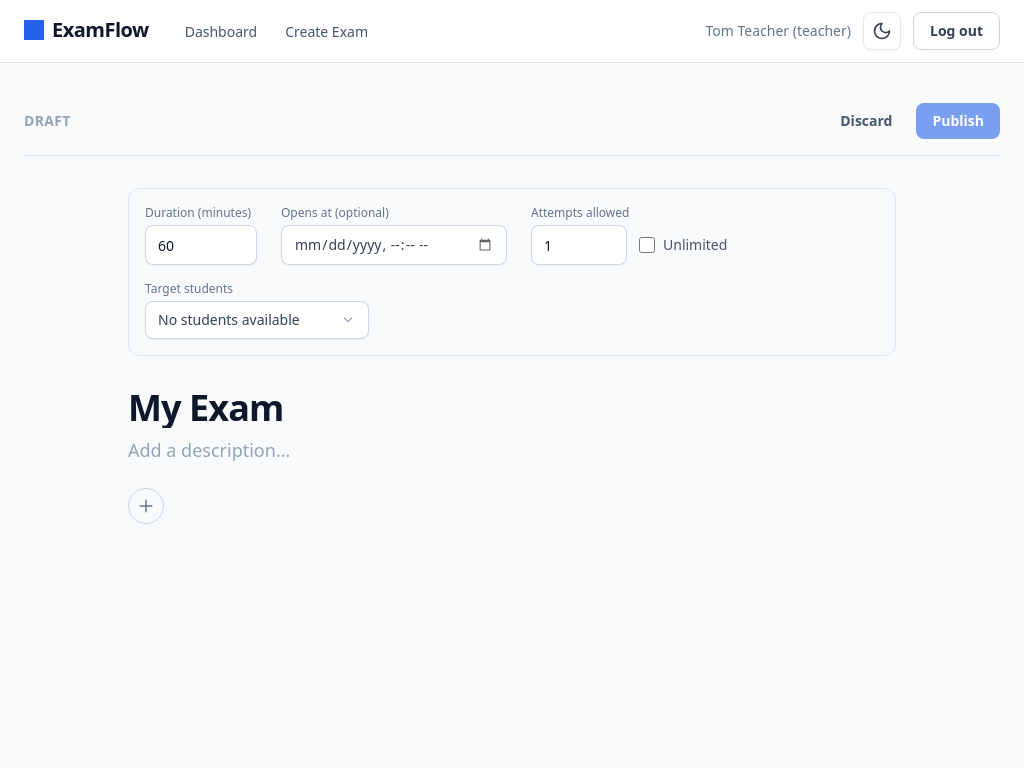
it: exam editor — validation, options, and payload › shows a validation error and blocks submit when an option is blank
This screenshot has width=1024, height=768.
Expected: the field showing "My Exam" is shown, 128,388 -> 896,428
Click the button named "add a question" at point(146, 506), box 128,488 -> 164,524
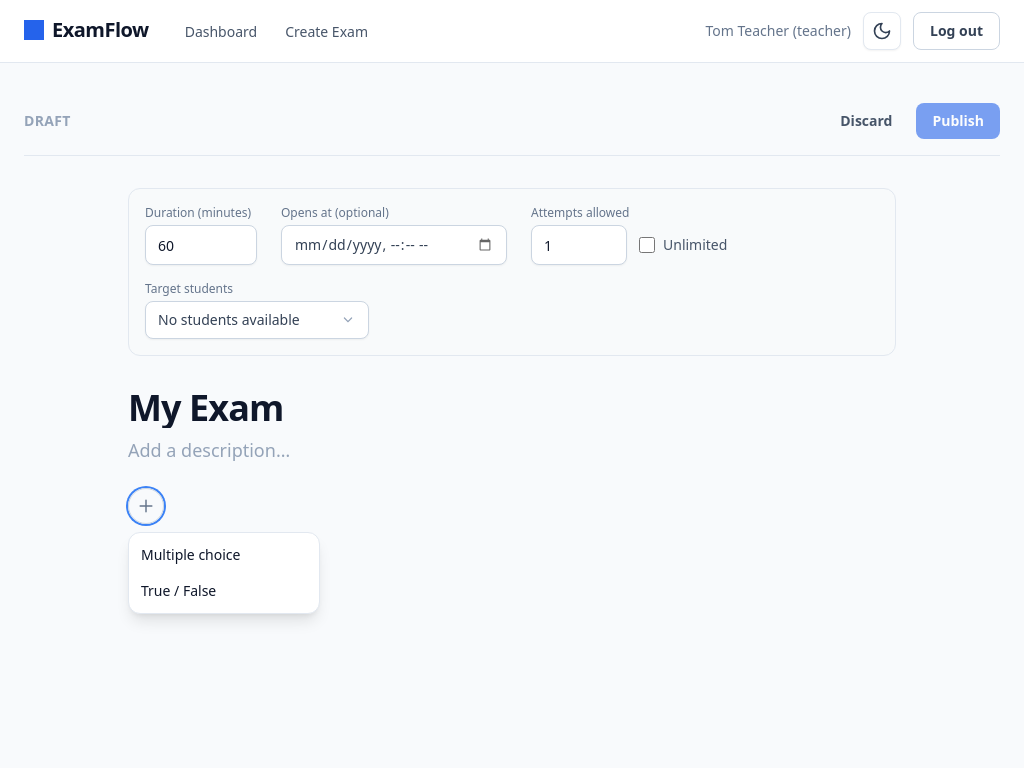
Click the menu item "Multiple choice" at point(224, 555), box 129,537 -> 319,573
(page scrolled)
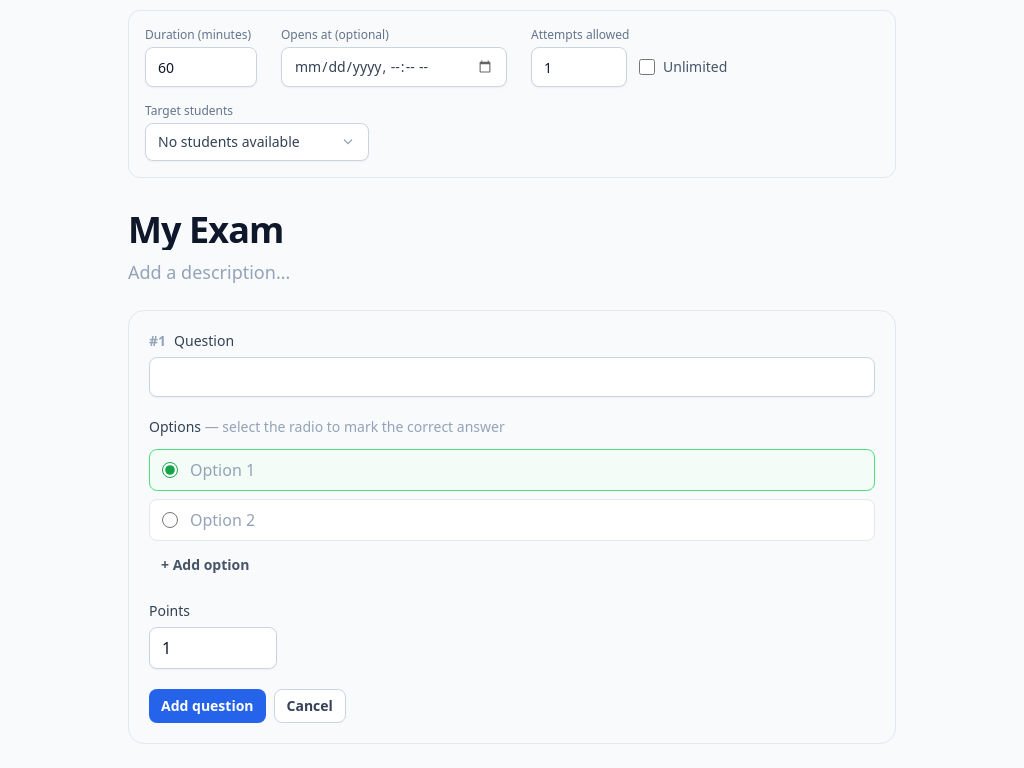
Result: the text box labelled "Question" is shown
Type "Capital of France?" into the text box labelled "Question" at point(512, 377), box 149,357 -> 875,397
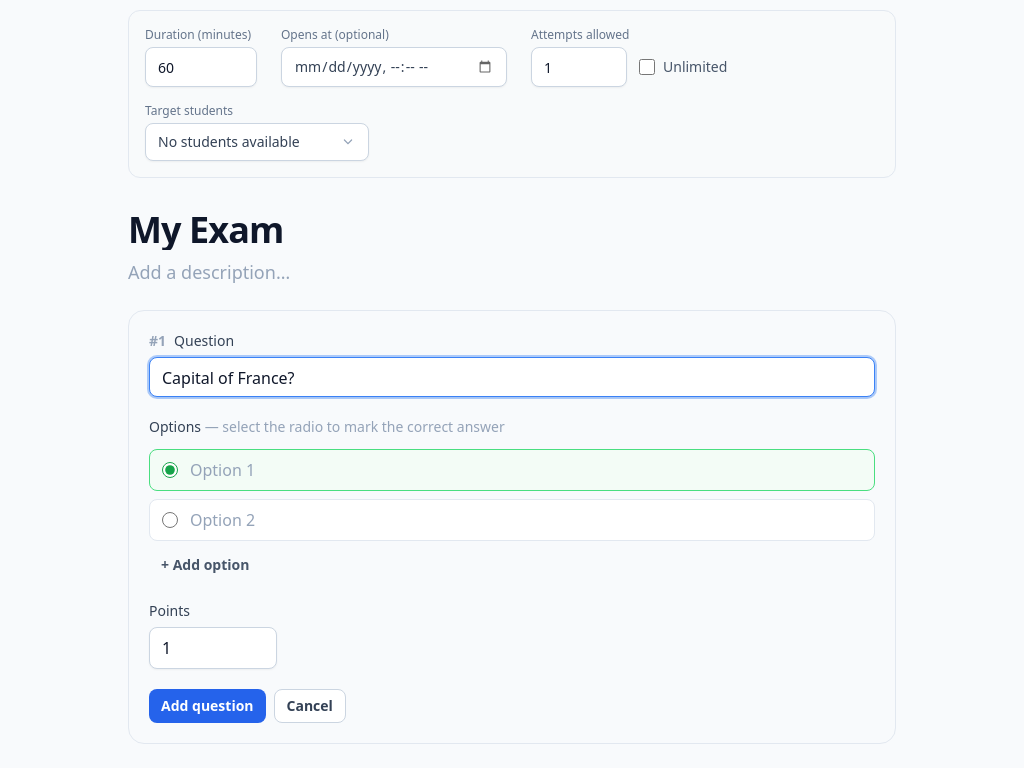
Type "Paris" into the field labelled "Option 1" at point(526, 470), box 190,458 -> 862,482
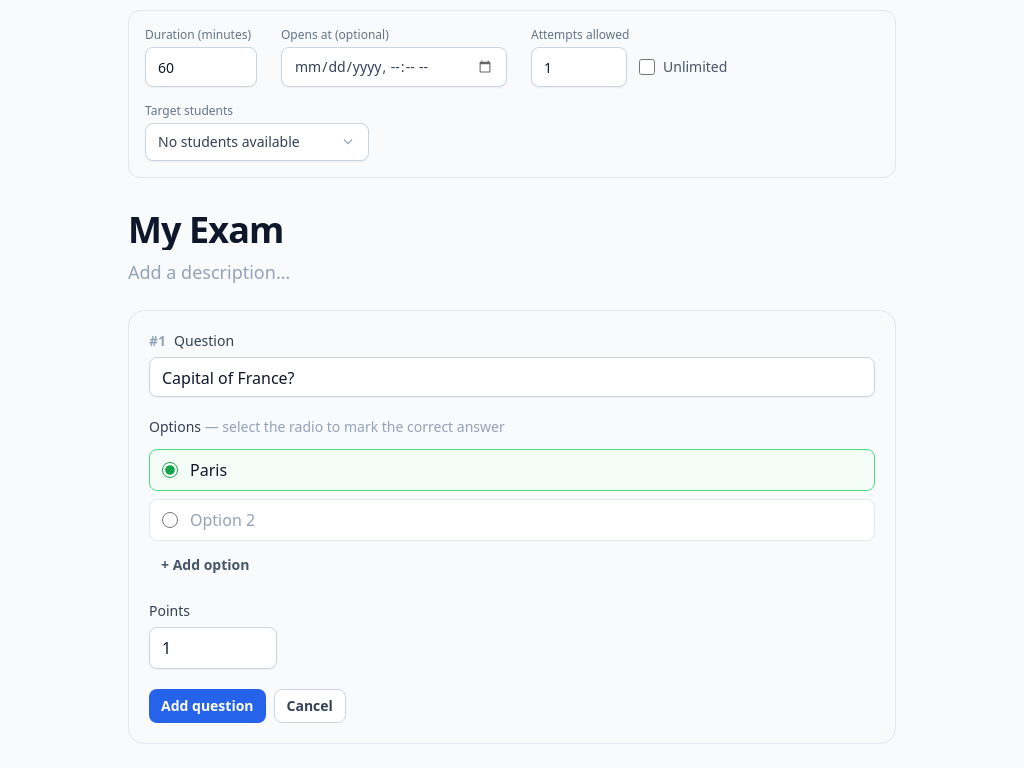
Click the radio button named "Mark option 1 as correct" at point(170, 470), box 162,462 -> 178,478
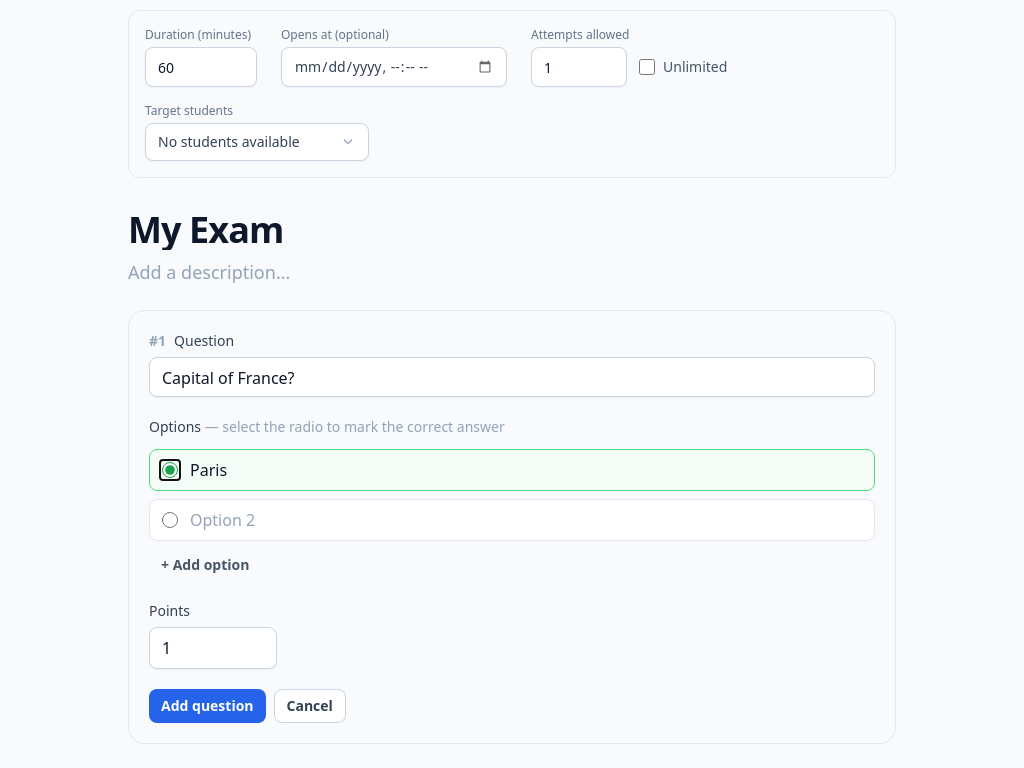
Click the button "Add question" at point(207, 706), box 149,689 -> 266,723
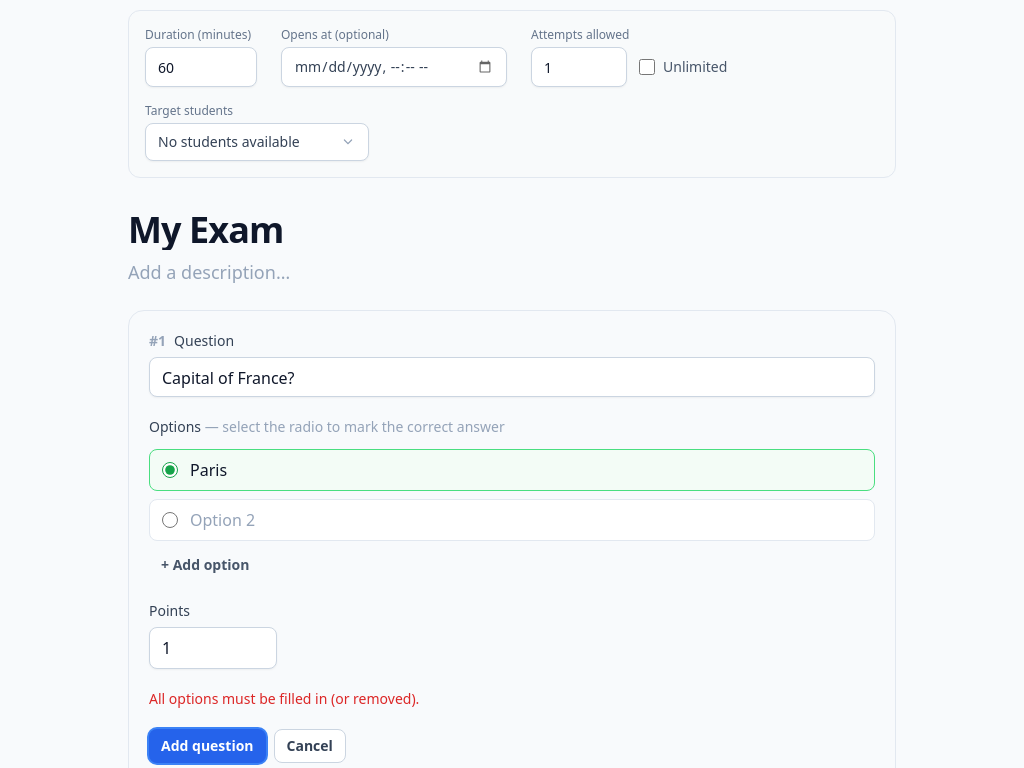
Result: the message shows "All options must be filled" at 149,689 -> 419,708
